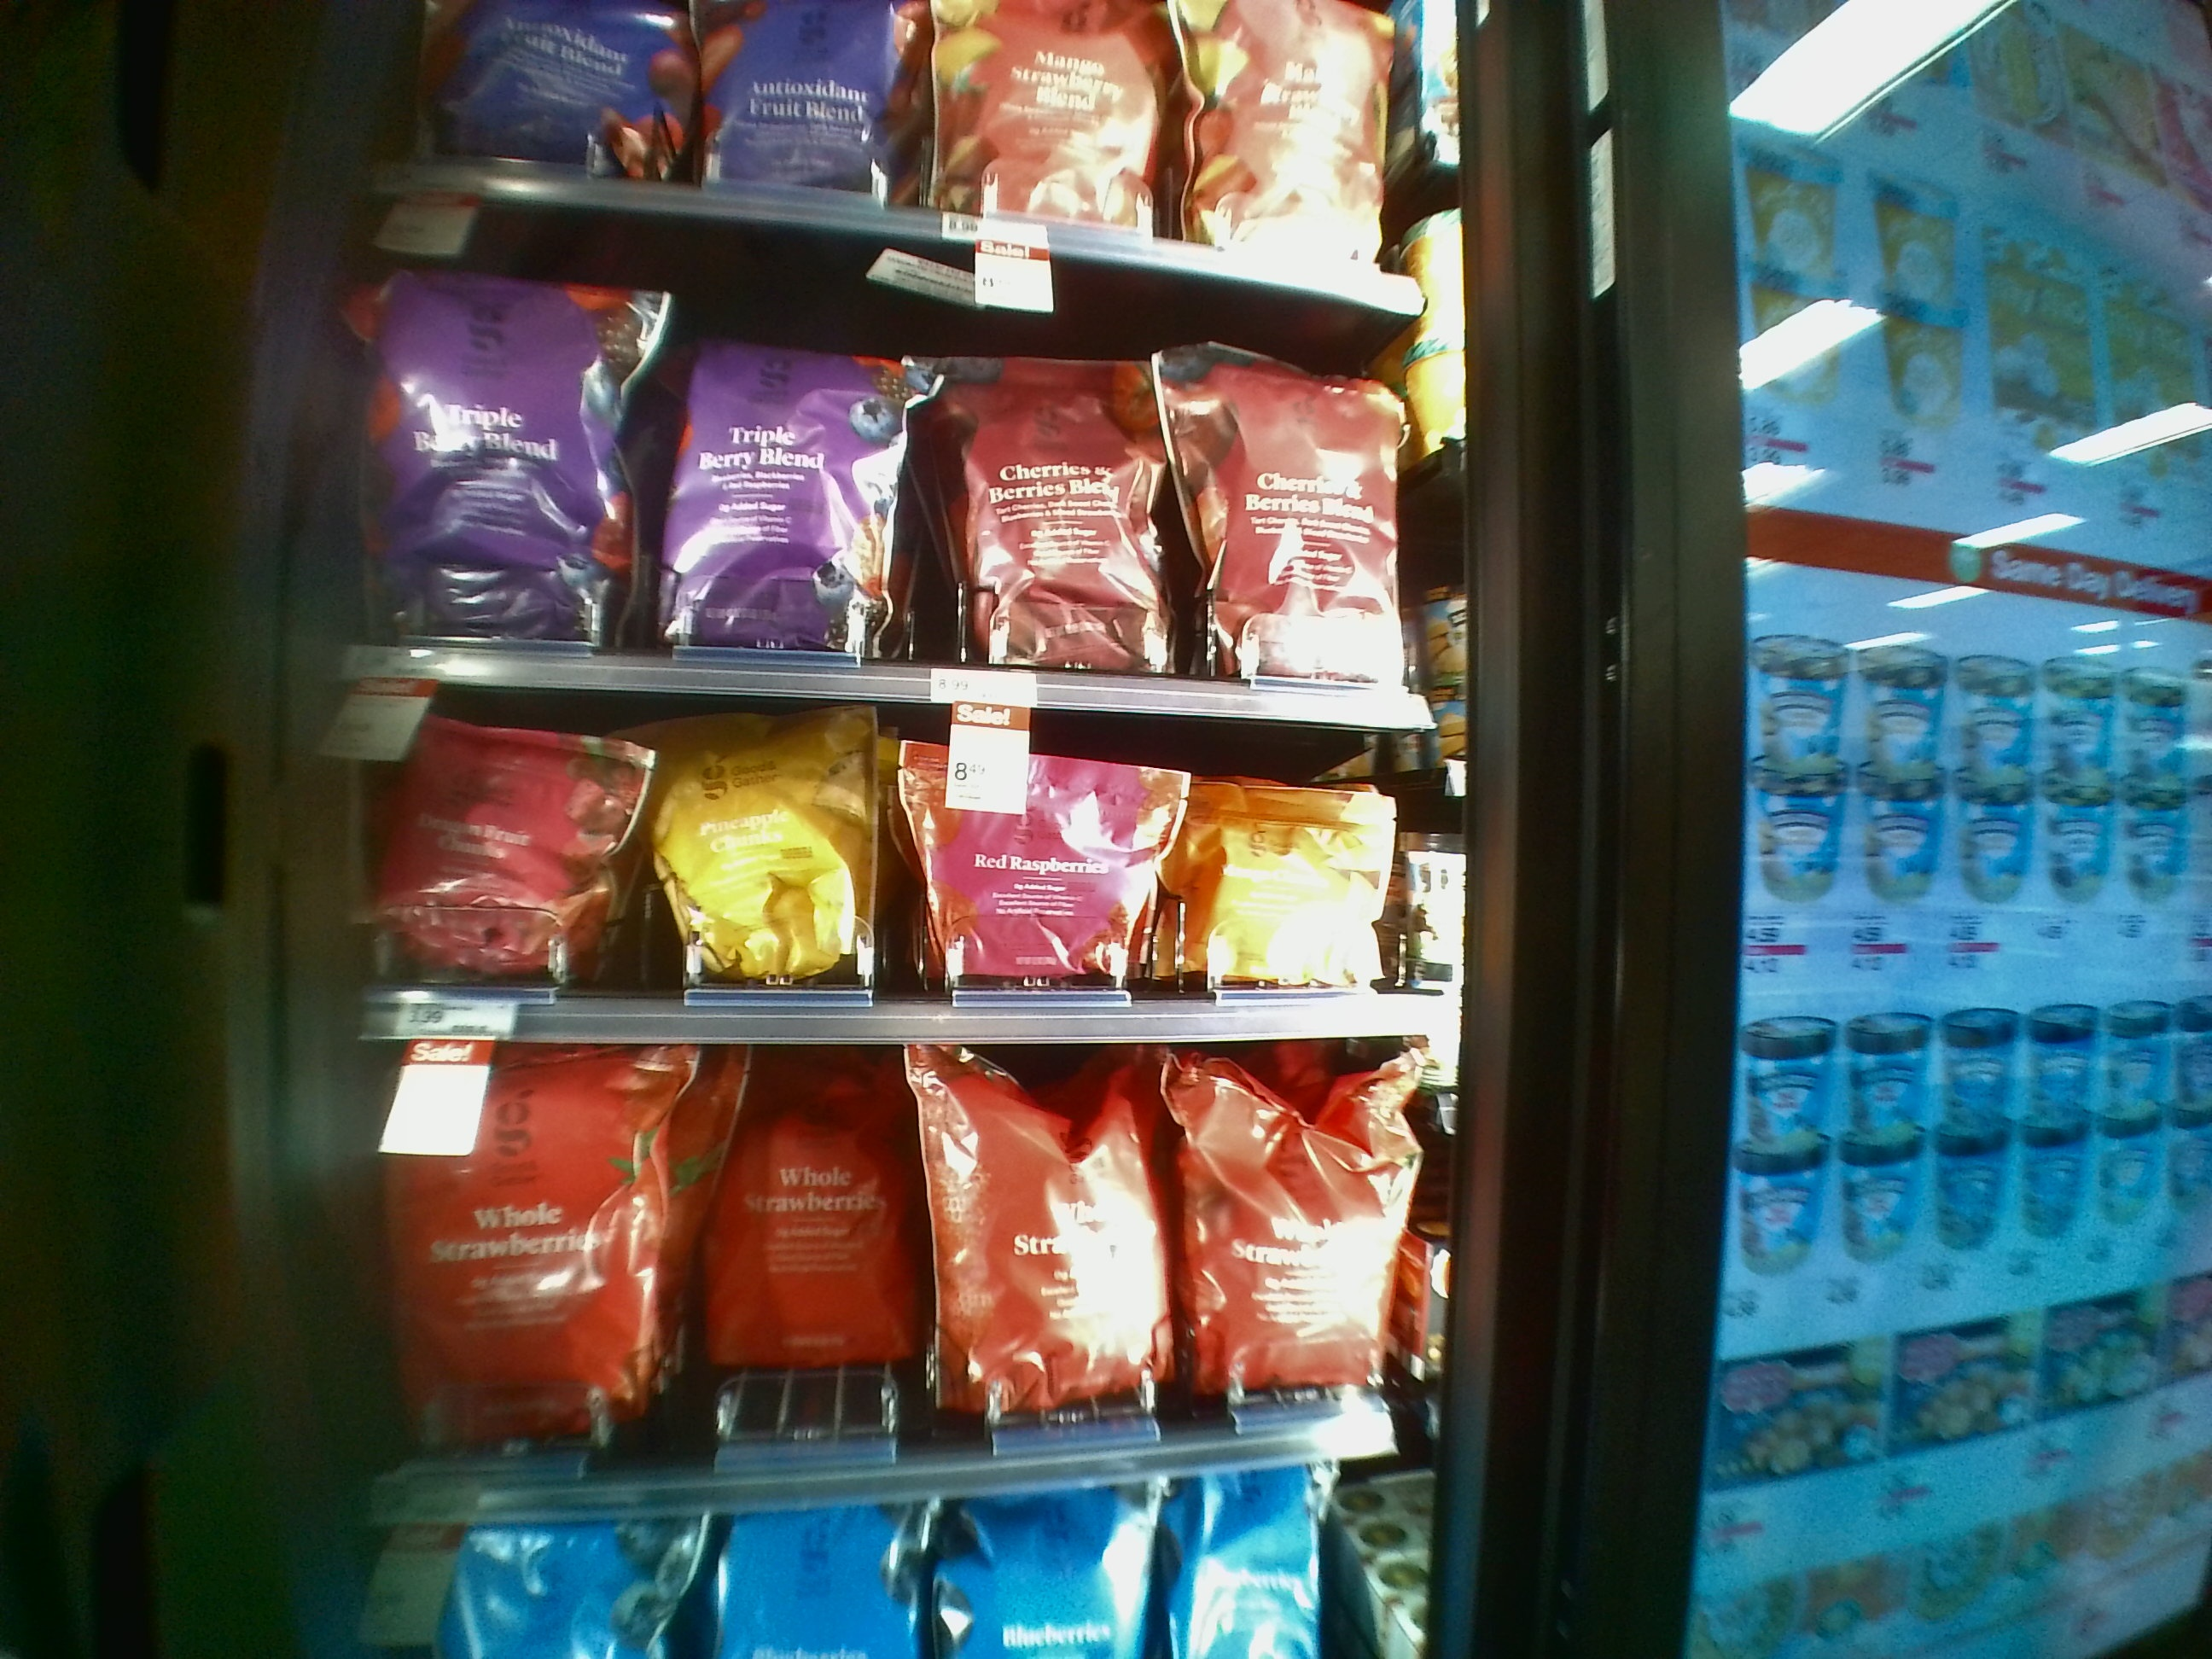shelf: (355, 249, 1470, 711), (361, 1053, 1432, 1516), (343, 704, 1468, 1042)
